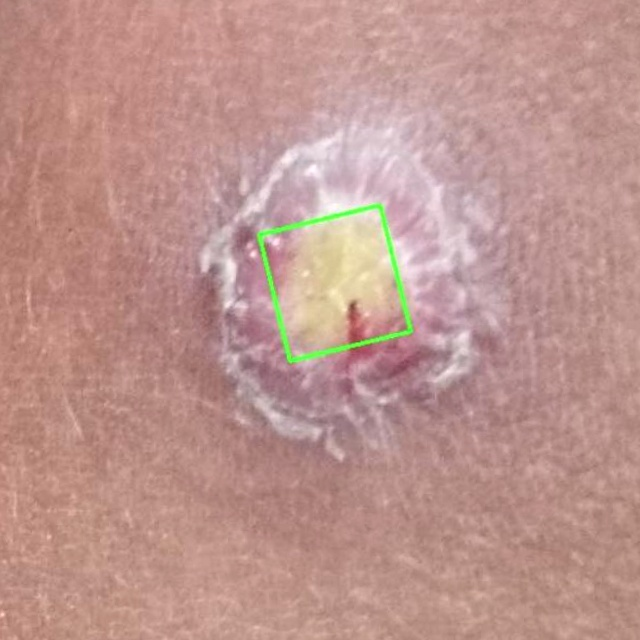Scabies: (260, 205, 411, 361)
